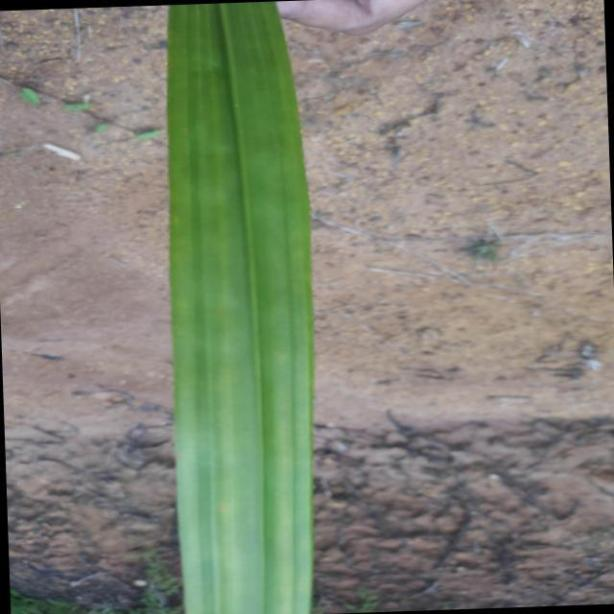nitrogen: (163, 0, 315, 614)
